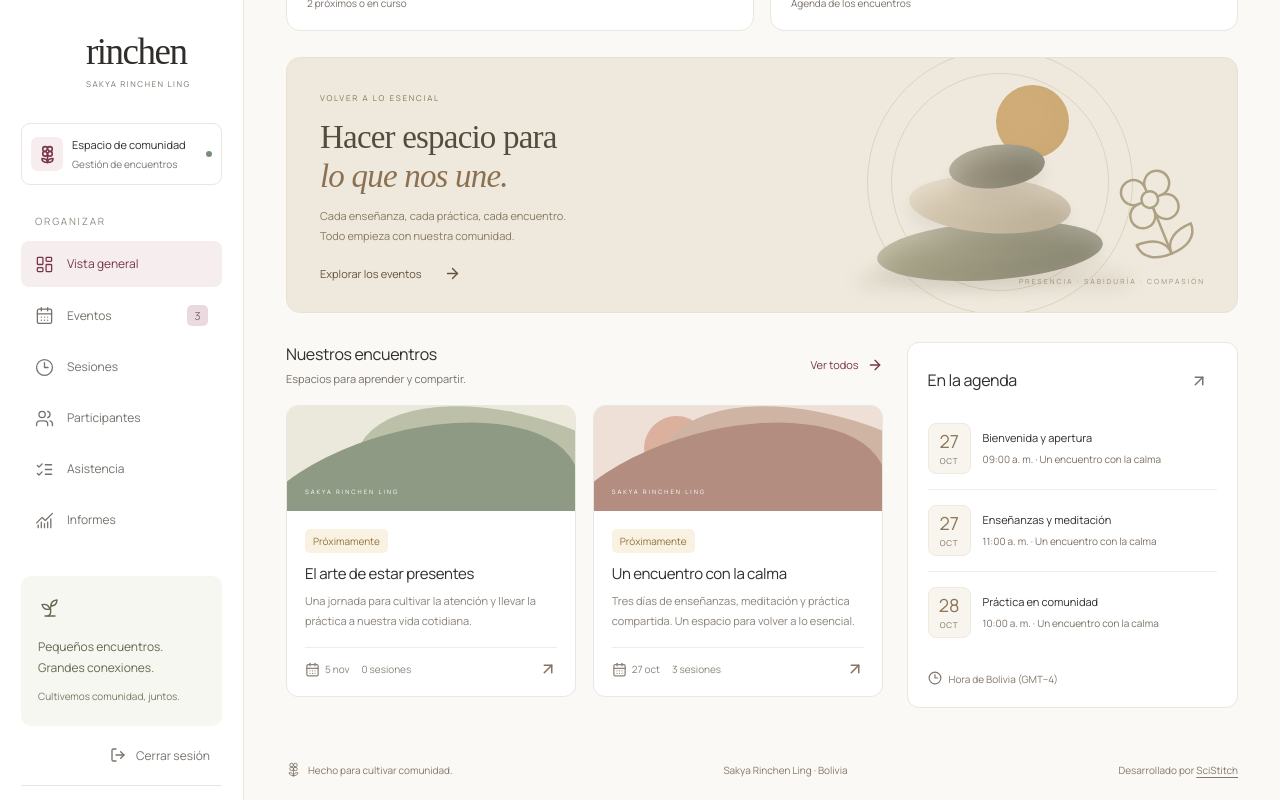
Test: opens an event page from its card rather than opening the edit form
(page scrolled)
Click the link "Un encuentro con la calma Tres días": (738, 458) [593,405,883,697]
(page scrolled)
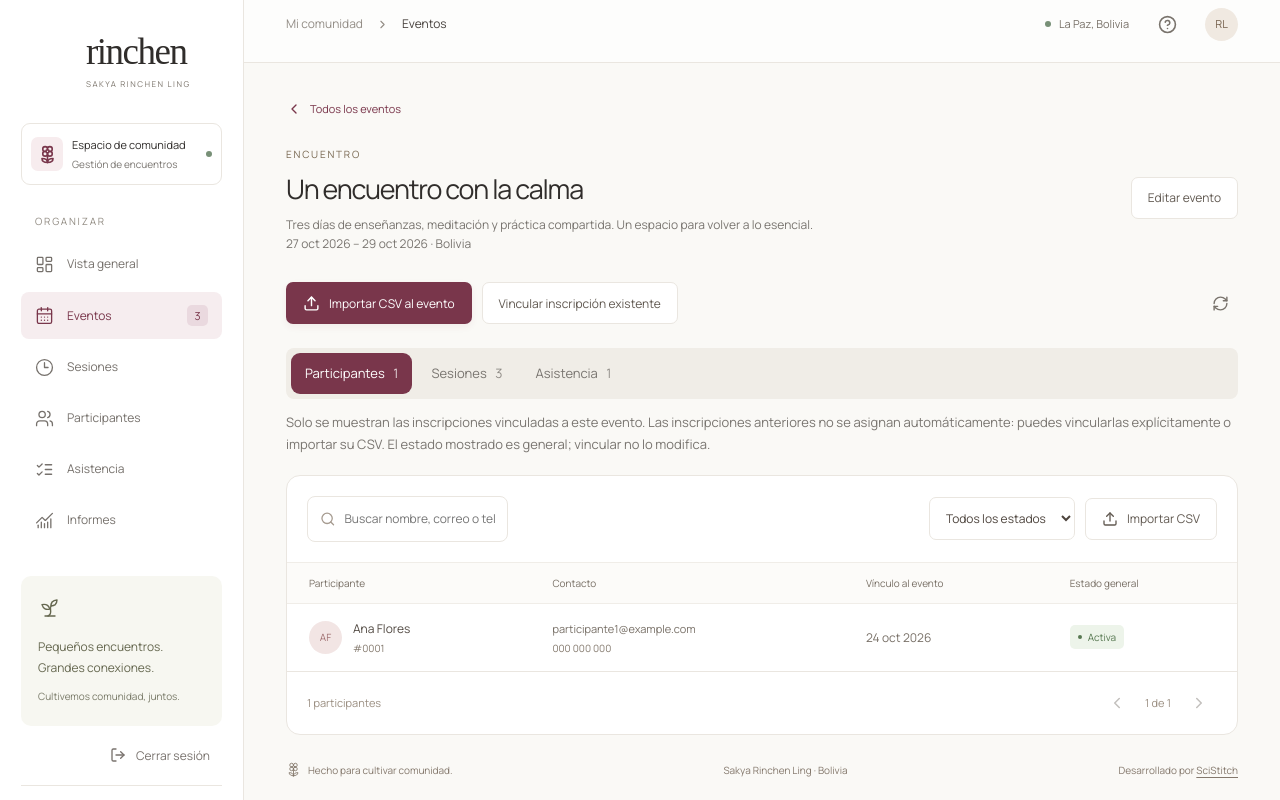
Check: the heading "Un encuentro con la calma" is shown, box [286,170,583,207]
Check: the text "Ana Flores" is shown, box [353,620,410,637]
Click the button "Editar evento": (1184, 198) [1131,177,1238,219]
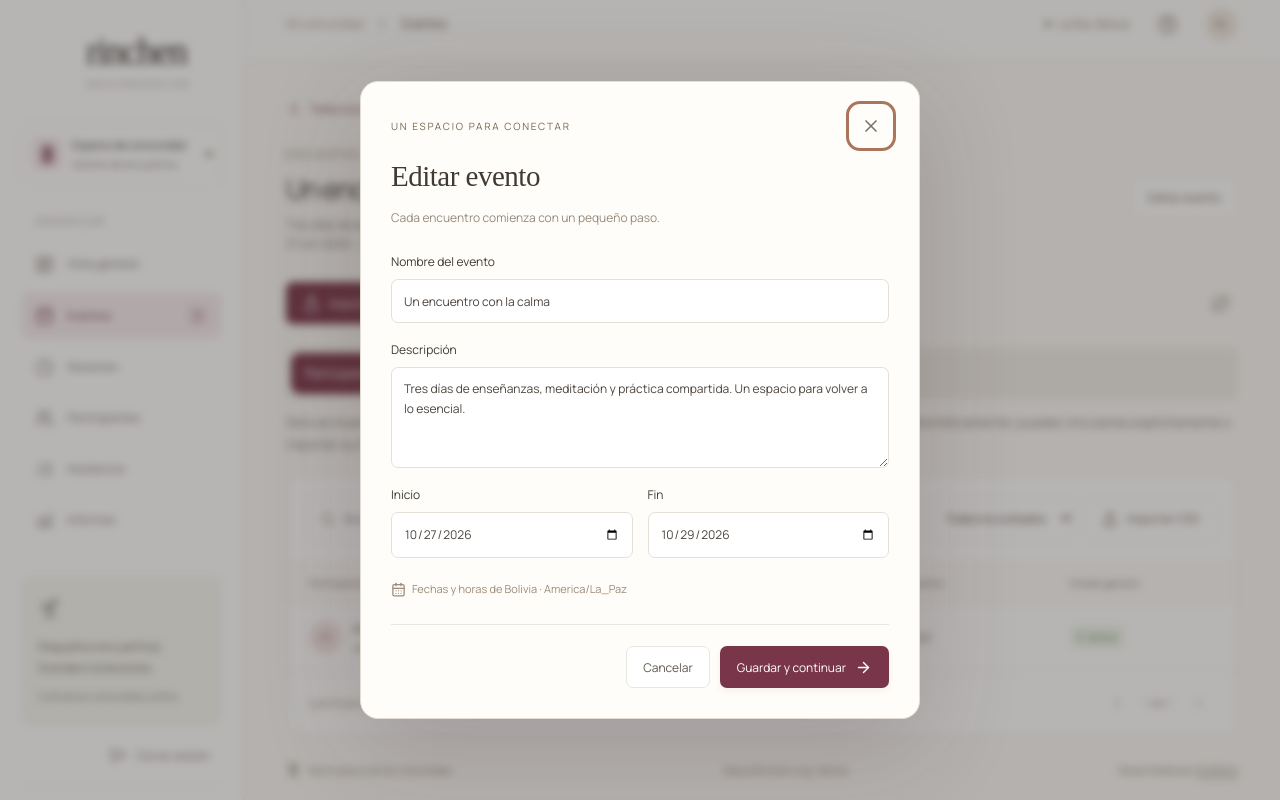
Check: the dialog "Editar evento" is shown, box [360,80,920,720]
